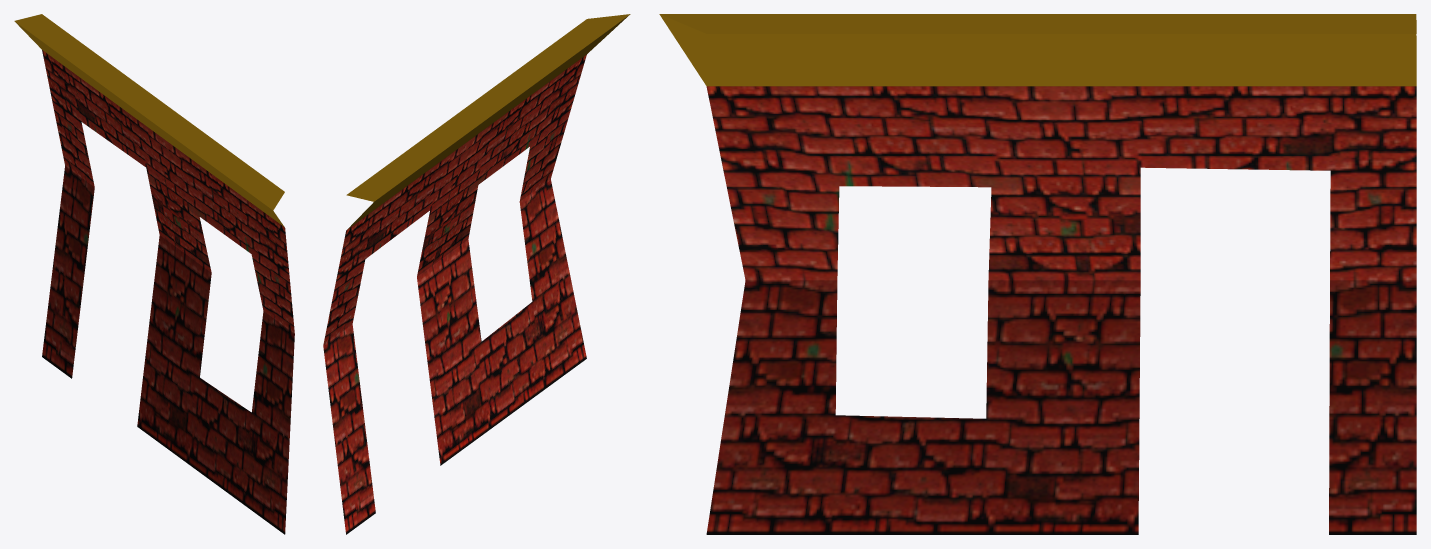
3 renders of one model, left to right at view 1: azimuth 30°, elevation 25°; view 2: azimuth 150°, elevation 25°; view 3: azimuth 270°, elevation 25°, orthographic. The views are drawn at different scales.
Visible parts, largest first — view 1: pPlaneShape1, polySurfaceShape1185; view 2: pPlaneShape1, polySurfaceShape1185; view 3: pPlaneShape1, polySurfaceShape1185.
Part boxes in pixels (<box>): pPlaneShape1: <box>42,50,294,534</box>; polySurfaceShape1185: <box>14,14,284,227</box>; pPlaneShape1: <box>323,54,586,534</box>; polySurfaceShape1185: <box>346,14,630,229</box>; pPlaneShape1: <box>706,86,1416,534</box>; polySurfaceShape1185: <box>659,14,1416,86</box>.
Bounding box in the file's own units: 0.0607 × 0.3891 × 0.5333.
Materials: 2 (1 with a texture image).
